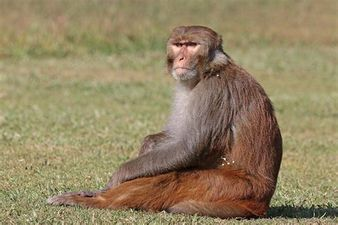monkey: (79, 29, 319, 214)
